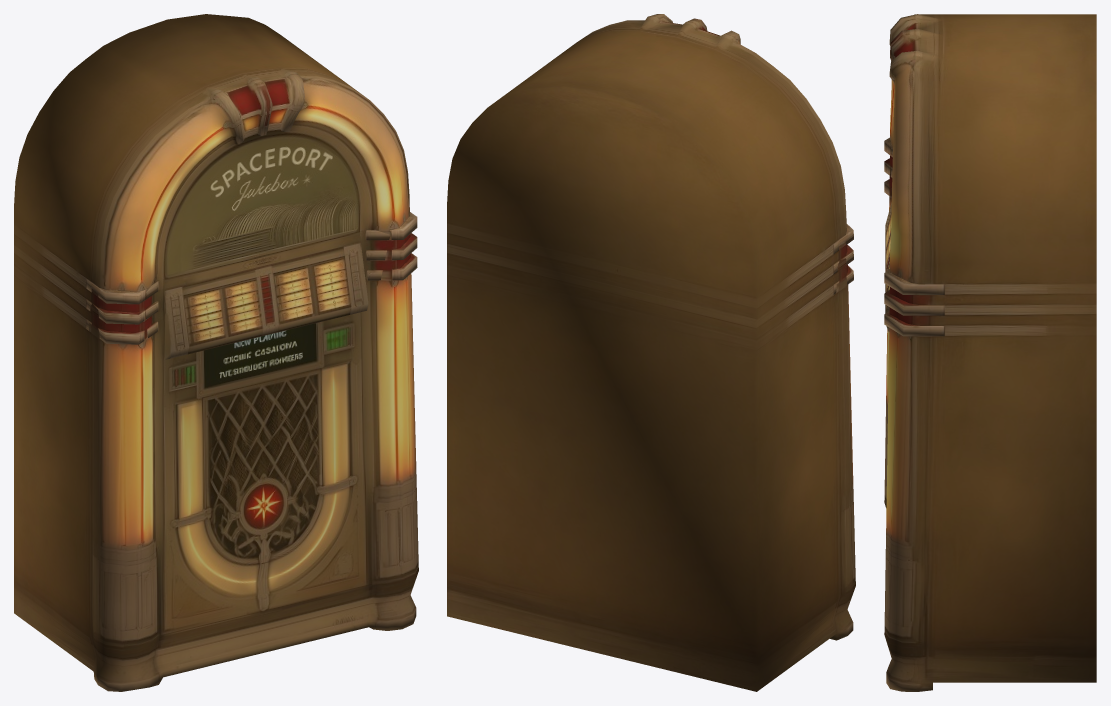
The model's file is spaceport jukebox 3d model.glb.
The picture shows the model from 3 angles, left to right: view 1: azimuth 30°, elevation 25°; view 2: azimuth 150°, elevation 25°; view 3: azimuth 270°, elevation 25°; orthographic projection. The views are drawn at different scales.
Parts seen in each view (by area): view 1: jukebox; view 2: jukebox; view 3: jukebox.
Boxes of the visible parts, <box> form: jukebox: <box>14,14,418,691</box>; jukebox: <box>447,14,855,691</box>; jukebox: <box>884,14,1096,691</box>.
Bounding box in the file's own units: 0.5815 × 0.9995 × 0.3276.
Materials: 1 (1 with a texture image).
